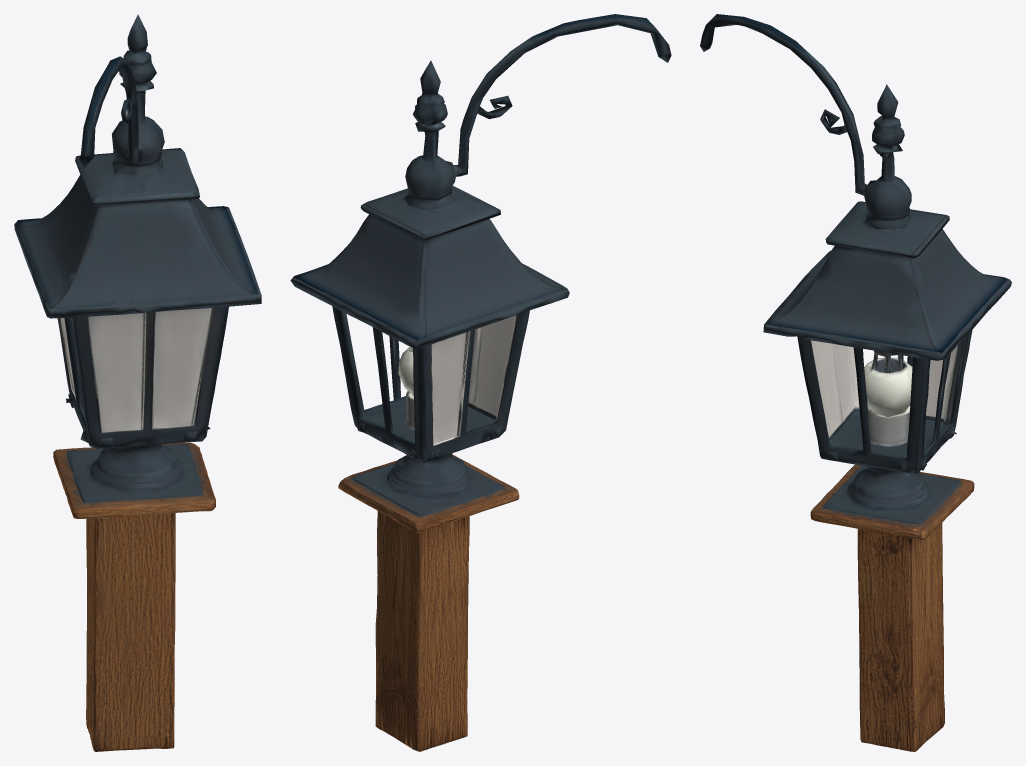
Rendered from lamp.glb.
The picture shows the model from 3 angles, left to right: view 1: azimuth 30°, elevation 25°; view 2: azimuth 150°, elevation 25°; view 3: azimuth 270°, elevation 25°; orthographic projection. The views are drawn at different scales.
Visible parts, largest first — view 1: tripo_node_de3dabfc-258e-4d6a-b870-17b4d32d6a17; view 2: tripo_node_de3dabfc-258e-4d6a-b870-17b4d32d6a17; view 3: tripo_node_de3dabfc-258e-4d6a-b870-17b4d32d6a17.
Part boxes in pixels (x1,y1,x2,y2): tripo_node_de3dabfc-258e-4d6a-b870-17b4d32d6a17: (14,14,261,751); tripo_node_de3dabfc-258e-4d6a-b870-17b4d32d6a17: (290,14,671,751); tripo_node_de3dabfc-258e-4d6a-b870-17b4d32d6a17: (700,14,1011,751).
Size of the model in its own units: 0.475 by 1.2 by 0.5094.
Materials: 1 (1 with a texture image).
